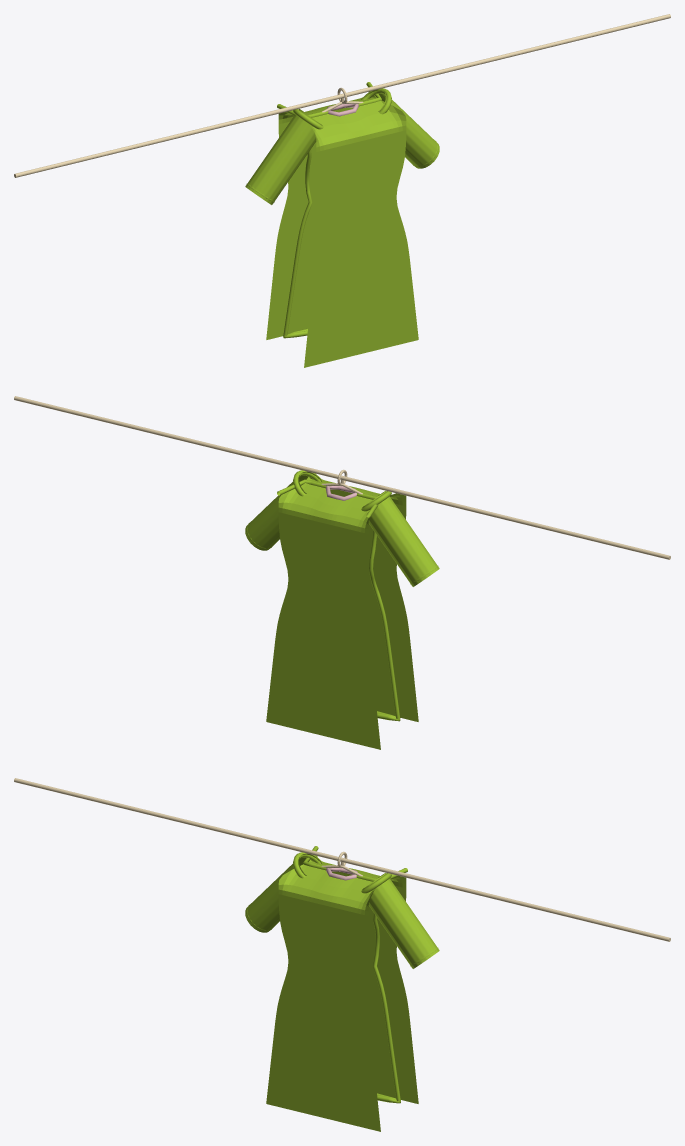
3 renders of one model, top to bottom at view 1: azimuth 30°, elevation 25°; view 2: azimuth 150°, elevation 25°; view 3: azimuth 330°, elevation 25°, orthographic.
Visible parts, largest first — view 1: dress_pink, Cylinder.008, Cylinder.003, Cylinder.004, Seam.002; view 2: dress_pink, Cylinder.008, Cylinder.003, Cylinder.004, Seam.002; view 3: dress_pink, Cylinder.008, Cylinder.004, Cylinder.003, Seam.003.
Part boxes in pixels (<box>): dress_pink: <box>266,91,418,367</box>; Cylinder.008: <box>14,14,670,177</box>; Cylinder.003: <box>245,109,322,204</box>; Cylinder.004: <box>362,89,439,168</box>; Seam.002: <box>283,149,312,336</box>; dress_pink: <box>266,473,418,749</box>; Cylinder.008: <box>14,396,670,559</box>; Cylinder.003: <box>362,491,439,586</box>; Cylinder.004: <box>245,471,322,550</box>; Seam.002: <box>369,531,400,719</box>; dress_pink: <box>266,855,418,1131</box>; Cylinder.008: <box>14,778,670,941</box>; Cylinder.004: <box>362,873,439,968</box>; Cylinder.003: <box>245,853,322,932</box>; Seam.003: <box>373,913,400,1102</box>.
Size of the model in its own units: 3.2 by 1.18 by 0.3222.
4 materials, 2 textured.
